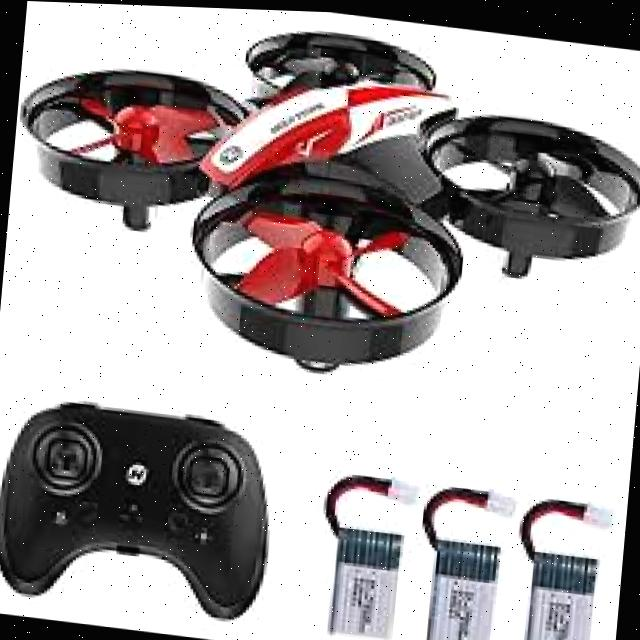drone: (0, 0, 640, 410)
